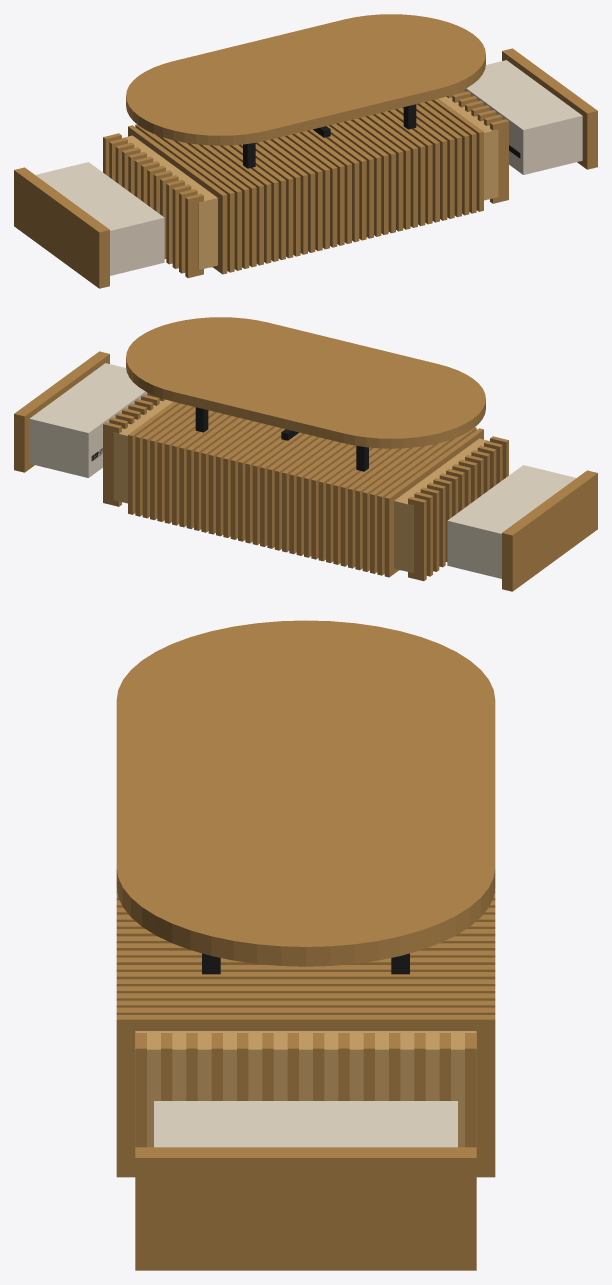
File: bergen-table.glb
The picture shows the model from 3 angles, top to bottom: view 1: azimuth 30°, elevation 25°; view 2: azimuth 150°, elevation 25°; view 3: azimuth 270°, elevation 25°; orthographic projection. The views are drawn at different scales.
Visible parts, largest first — view 1: BergenOvalCoffeeTable; view 2: BergenOvalCoffeeTable; view 3: BergenOvalCoffeeTable.
Part boxes in pixels (left/top/right/bottom): BergenOvalCoffeeTable: left=14, top=14, right=597, bottom=288; BergenOvalCoffeeTable: left=14, top=317, right=597, bottom=591; BergenOvalCoffeeTable: left=116, top=620, right=495, bottom=1270.
Bounding box in the file's own units: 1.85 × 0.4779 × 0.61.
